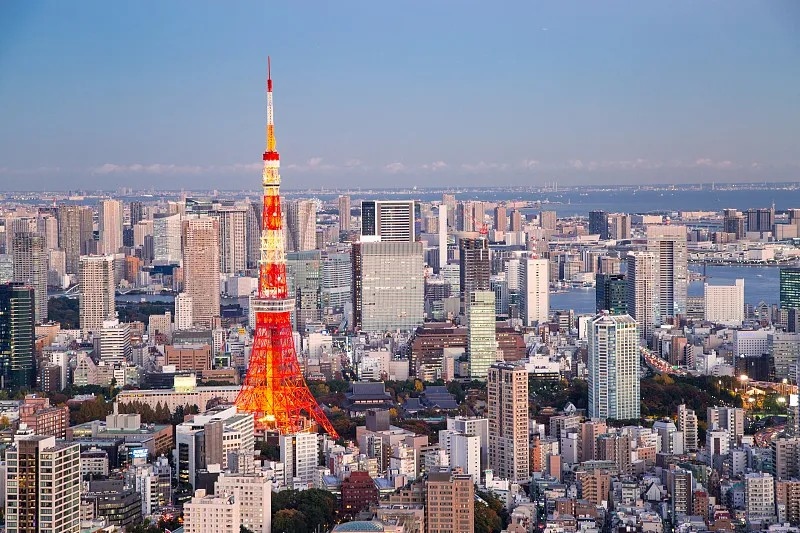Tokyo: (233, 54, 341, 442)
